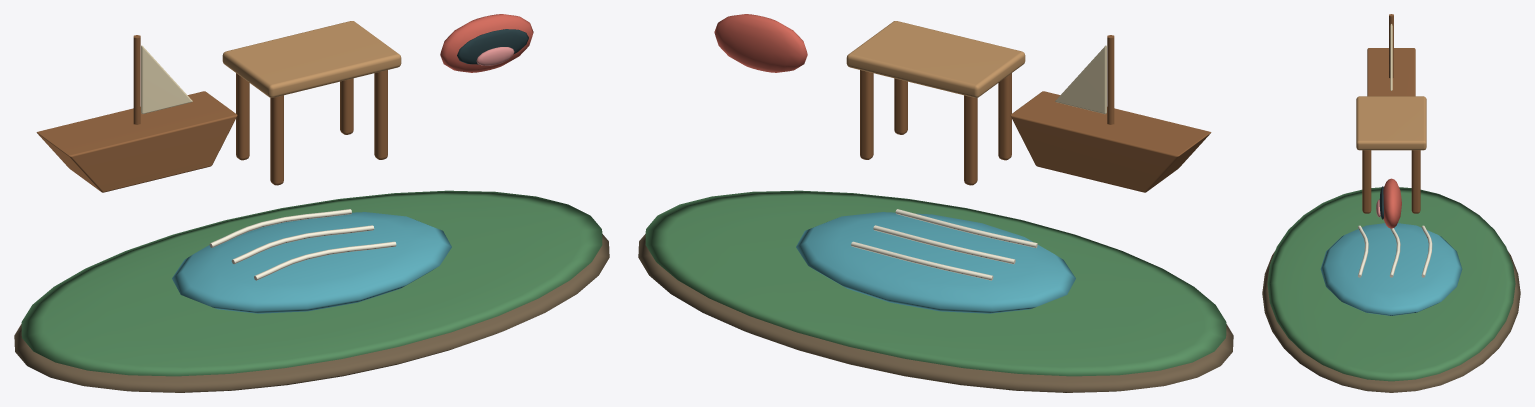
Rendered from complete-first-vessel-table-mouth.glb.
3 renders of one model, left to right at view 1: azimuth 30°, elevation 25°; view 2: azimuth 150°, elevation 25°; view 3: azimuth 270°, elevation 25°, orthographic. The views are drawn at different scales.
Parts seen in each view (by area): view 1: complete-first-vessel-table-mouth_surface_01, complete-first-vessel-table-mouth_surface_08, complete-first-vessel-table-mouth_surface_02, complete-first-vessel-table-mouth_surface_00, complete-first-vessel-table-mouth_surface_04, complete-first-vessel-table-mouth_surface_09, complete-first-vessel-table-mouth_surface_05, complete-first-vessel-table-mouth_surface_03, complete-first-vessel-table-mouth_surface_06, complete-first-vessel-table-mouth_surface_07; view 2: complete-first-vessel-table-mouth_surface_01, complete-first-vessel-table-mouth_surface_08, complete-first-vessel-table-mouth_surface_02, complete-first-vessel-table-mouth_surface_00, complete-first-vessel-table-mouth_surface_04, complete-first-vessel-table-mouth_surface_05, complete-first-vessel-table-mouth_surface_09, complete-first-vessel-table-mouth_surface_03; view 3: complete-first-vessel-table-mouth_surface_01, complete-first-vessel-table-mouth_surface_08, complete-first-vessel-table-mouth_surface_00, complete-first-vessel-table-mouth_surface_04, complete-first-vessel-table-mouth_surface_02, complete-first-vessel-table-mouth_surface_05, complete-first-vessel-table-mouth_surface_09.
Boxes of the visible parts, x1,y1,x2,y2 form: complete-first-vessel-table-mouth_surface_01: [21, 190, 602, 376]; complete-first-vessel-table-mouth_surface_08: [172, 212, 451, 313]; complete-first-vessel-table-mouth_surface_02: [36, 35, 387, 192]; complete-first-vessel-table-mouth_surface_00: [14, 234, 609, 392]; complete-first-vessel-table-mouth_surface_04: [222, 21, 401, 97]; complete-first-vessel-table-mouth_surface_09: [209, 209, 396, 280]; complete-first-vessel-table-mouth_surface_05: [440, 14, 533, 72]; complete-first-vessel-table-mouth_surface_03: [141, 45, 192, 113]; complete-first-vessel-table-mouth_surface_06: [457, 29, 528, 64]; complete-first-vessel-table-mouth_surface_07: [476, 47, 514, 65]; complete-first-vessel-table-mouth_surface_01: [645, 190, 1226, 376]; complete-first-vessel-table-mouth_surface_08: [796, 212, 1075, 313]; complete-first-vessel-table-mouth_surface_02: [860, 35, 1211, 192]; complete-first-vessel-table-mouth_surface_00: [638, 234, 1233, 392]; complete-first-vessel-table-mouth_surface_04: [846, 21, 1025, 97]; complete-first-vessel-table-mouth_surface_05: [714, 14, 807, 72]; complete-first-vessel-table-mouth_surface_09: [851, 209, 1037, 280]; complete-first-vessel-table-mouth_surface_03: [1055, 45, 1106, 113]; complete-first-vessel-table-mouth_surface_01: [1267, 187, 1515, 381]; complete-first-vessel-table-mouth_surface_08: [1320, 223, 1462, 315]; complete-first-vessel-table-mouth_surface_00: [1262, 251, 1520, 392]; complete-first-vessel-table-mouth_surface_04: [1356, 96, 1426, 150]; complete-first-vessel-table-mouth_surface_02: [1362, 14, 1420, 213]; complete-first-vessel-table-mouth_surface_05: [1383, 178, 1401, 228]; complete-first-vessel-table-mouth_surface_09: [1358, 225, 1432, 277].
Size of the model in its own units: 4.56 by 2.45 by 2.5.
